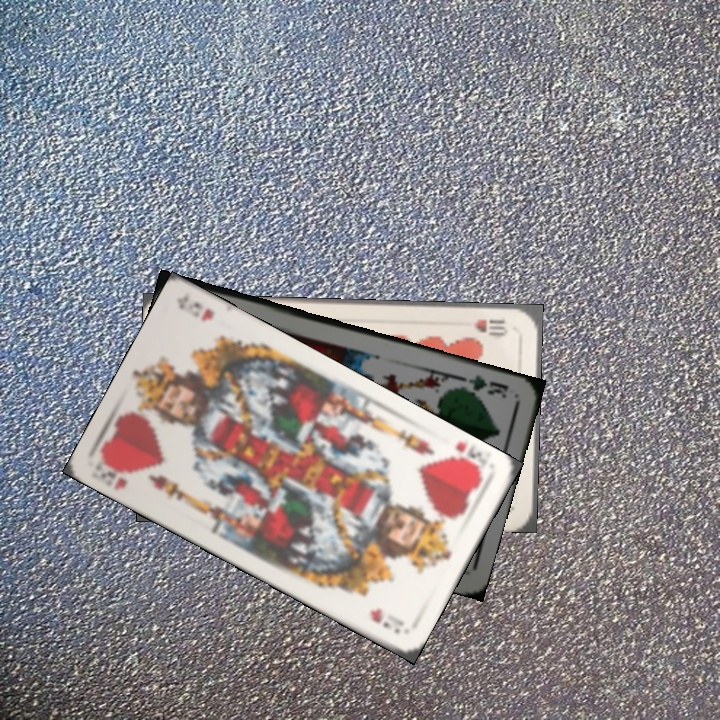GK: (455, 371, 512, 401)
H10: (470, 315, 510, 337)
HK: (440, 437, 486, 479), (97, 454, 135, 492)
